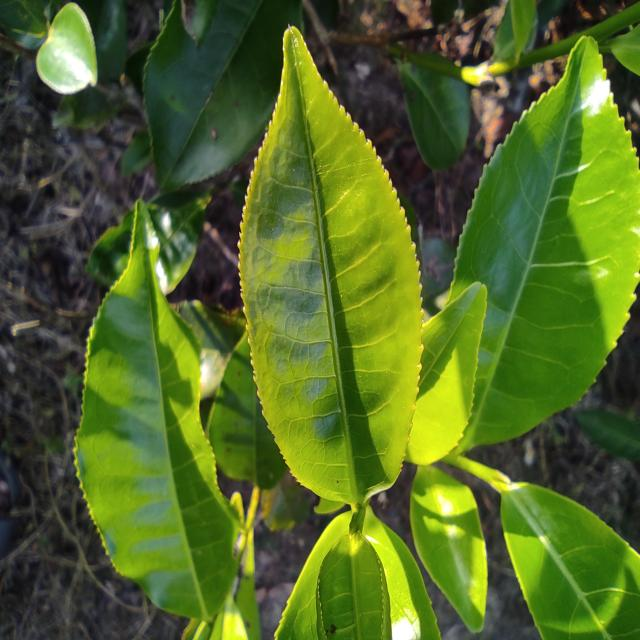Category B(2-4 days): (224, 5, 434, 538)
